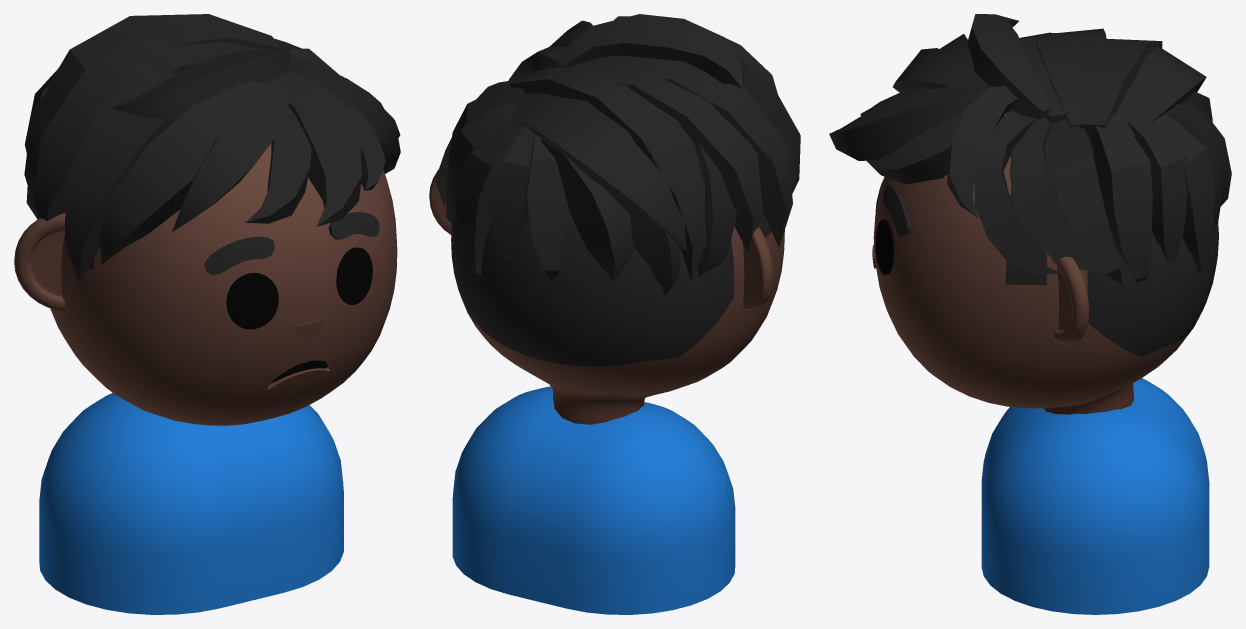
File: person_pouting.gltf
3 views of the same model, side by side, from view 1: azimuth 30°, elevation 25°; view 2: azimuth 150°, elevation 25°; view 3: azimuth 270°, elevation 25° (orthographic). The views are drawn at different scales.
Visible parts, largest first — view 1: Roundcube.038, Cube.471, Circle.404, ears.031, Circle.406; view 2: Roundcube.038, Cube.471, ears.031; view 3: Roundcube.038, Cube.471, ears.031, Circle.404, Circle.406.
Boxes of the visible parts, x1=… form: Roundcube.038: x1=39, y1=143, x2=397, y2=614; Cube.471: x1=24, y1=14, x2=400, y2=283; Circle.404: x1=226, y1=247, x2=372, y2=329; ears.031: x1=14, y1=213, x2=65, y2=310; Circle.406: x1=204, y1=212, x2=379, y2=275; Roundcube.038: x1=451, y1=208, x2=784, y2=614; Cube.471: x1=435, y1=14, x2=800, y2=295; ears.031: x1=429, y1=170, x2=773, y2=310; Roundcube.038: x1=873, y1=112, x2=1218, y2=614; Cube.471: x1=829, y1=14, x2=1231, y2=285; ears.031: x1=1051, y1=256, x2=1089, y2=344; Circle.404: x1=875, y1=181, x2=894, y2=274; Circle.406: x1=883, y1=185, x2=910, y2=236.
Bounding box in the file's own units: 1.76 × 2.48 × 1.77.
2 materials, 2 textured.
